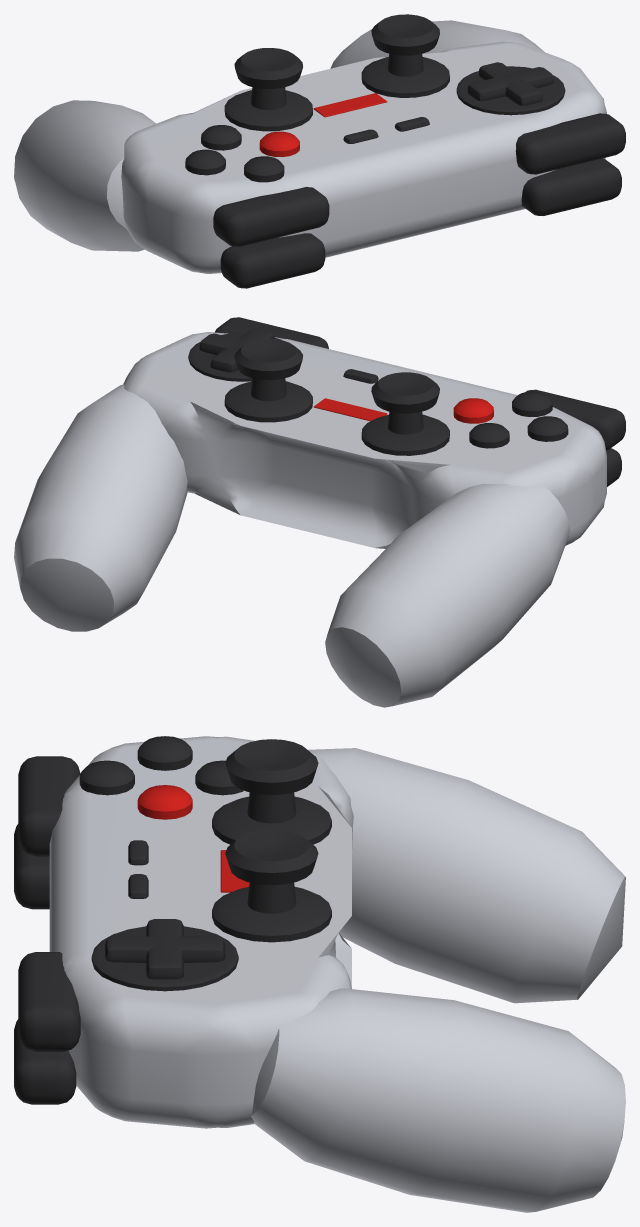
Rendered from Gamepad.fbx.
3 renders of one model, top to bottom at view 1: azimuth 30°, elevation 25°; view 2: azimuth 150°, elevation 25°; view 3: azimuth 270°, elevation 25°, orthographic. The views are drawn at different scales.
Visible parts, largest first — view 1: Gamepad shooter; view 2: Gamepad shooter; view 3: Gamepad shooter.
Boxes of the visible parts, bbox=[...] form: Gamepad shooter: bbox=[14, 14, 625, 288]; Gamepad shooter: bbox=[14, 317, 625, 707]; Gamepad shooter: bbox=[14, 736, 625, 1212].
Bounding box in the file's own units: 0.1694 × 0.0744 × 0.1376.
